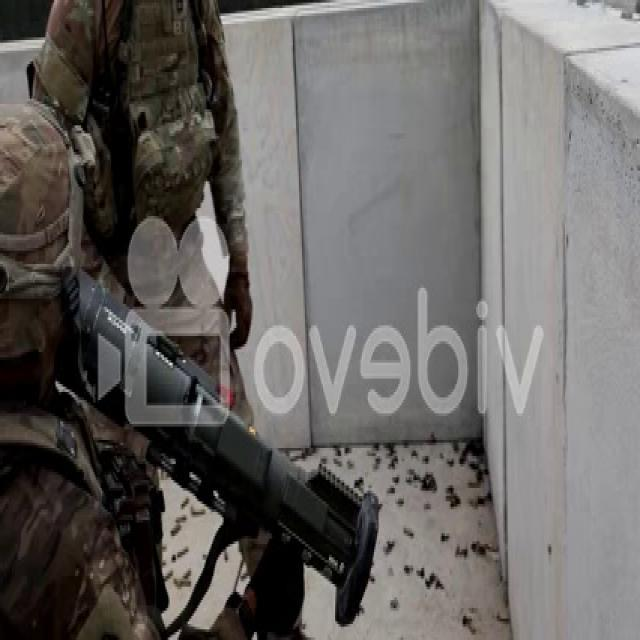rocket: (92, 282, 378, 634)
